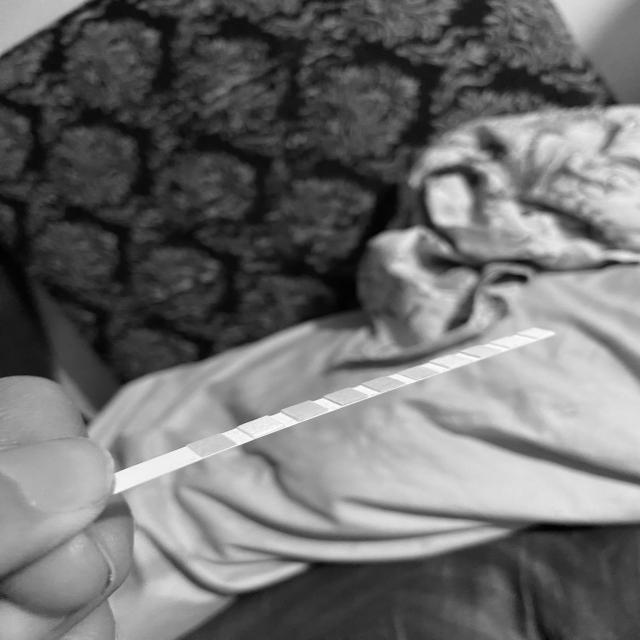Bilirubin: (253, 421, 271, 434)
Blood: (374, 379, 393, 389)
Glucose: (203, 438, 220, 453)
Ketone: (296, 404, 313, 415)
Leukocytes: (529, 330, 546, 337)
Nitrite: (502, 339, 520, 346)
Protein: (442, 357, 459, 365)
SpGravity: (336, 390, 356, 402)
Urobilinogen: (472, 347, 488, 355)
background: (0, 0, 640, 640)
pH: (409, 367, 427, 377)
strip: (117, 328, 556, 488)
